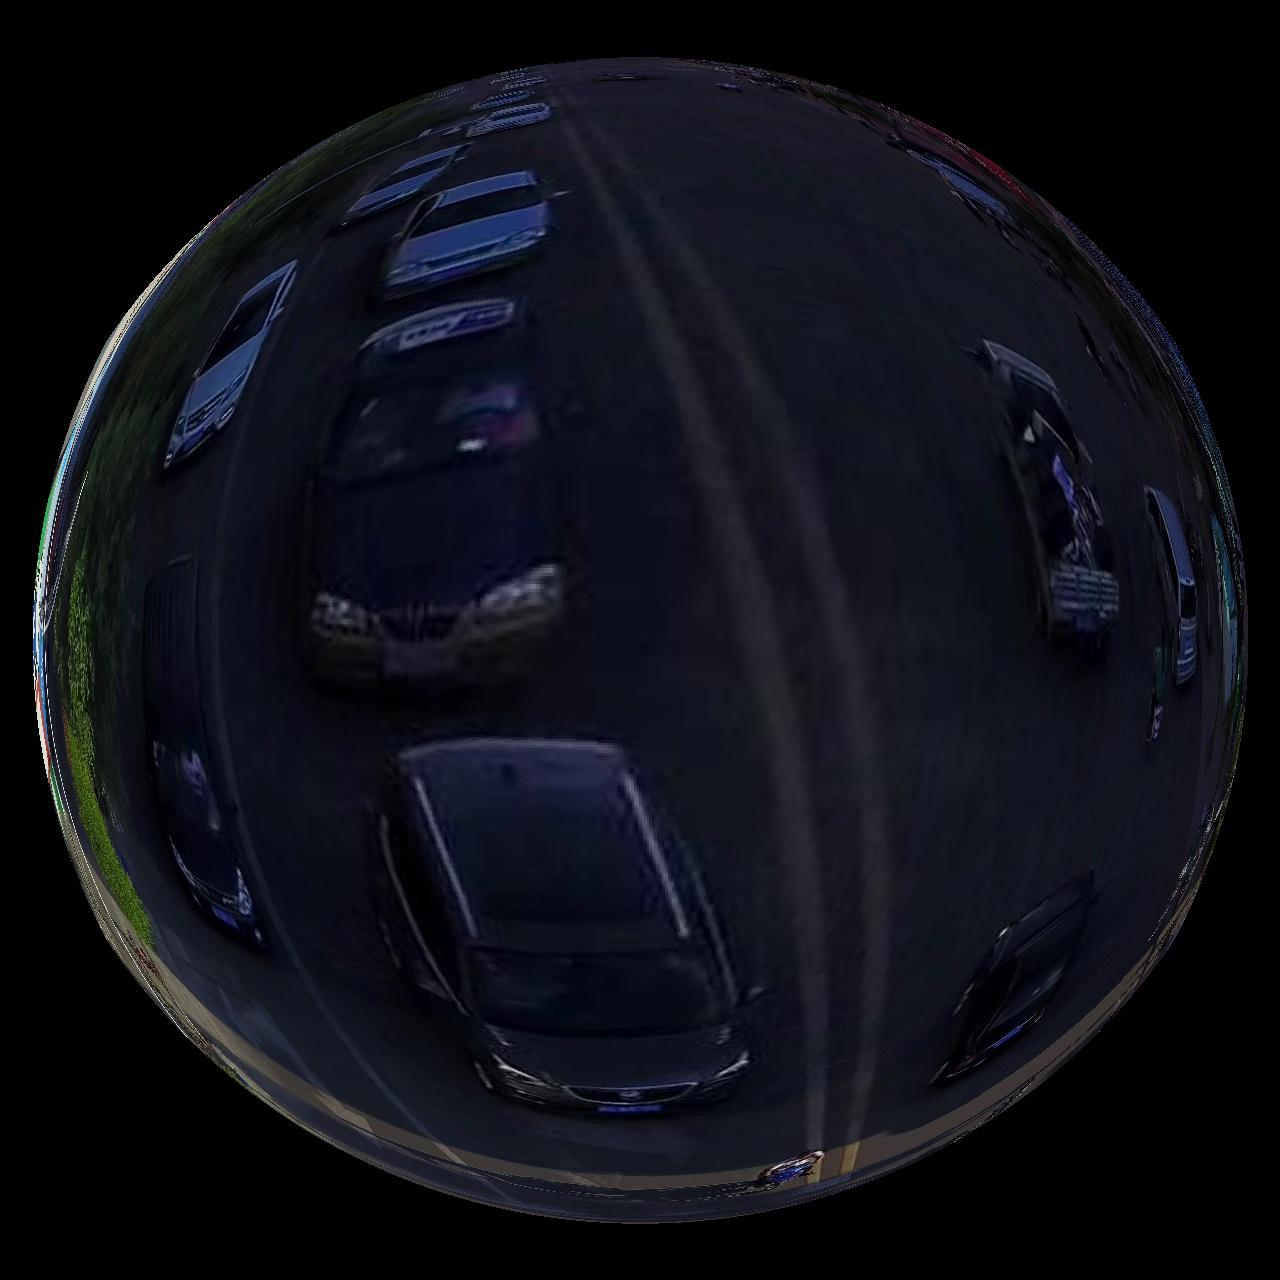cars: (378, 738, 754, 1116), (306, 296, 586, 690), (142, 556, 264, 948), (983, 339, 1123, 655), (933, 873, 1096, 1086), (162, 261, 296, 468), (381, 169, 550, 296), (1146, 485, 1201, 686), (340, 143, 464, 222), (467, 100, 551, 136)
